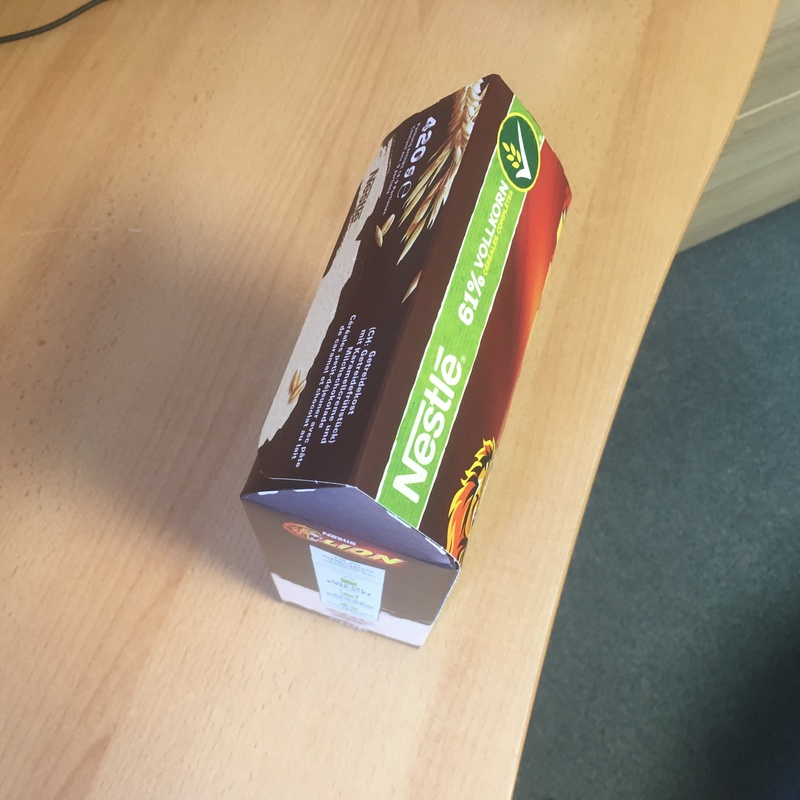cereals: (239, 74, 573, 644)
